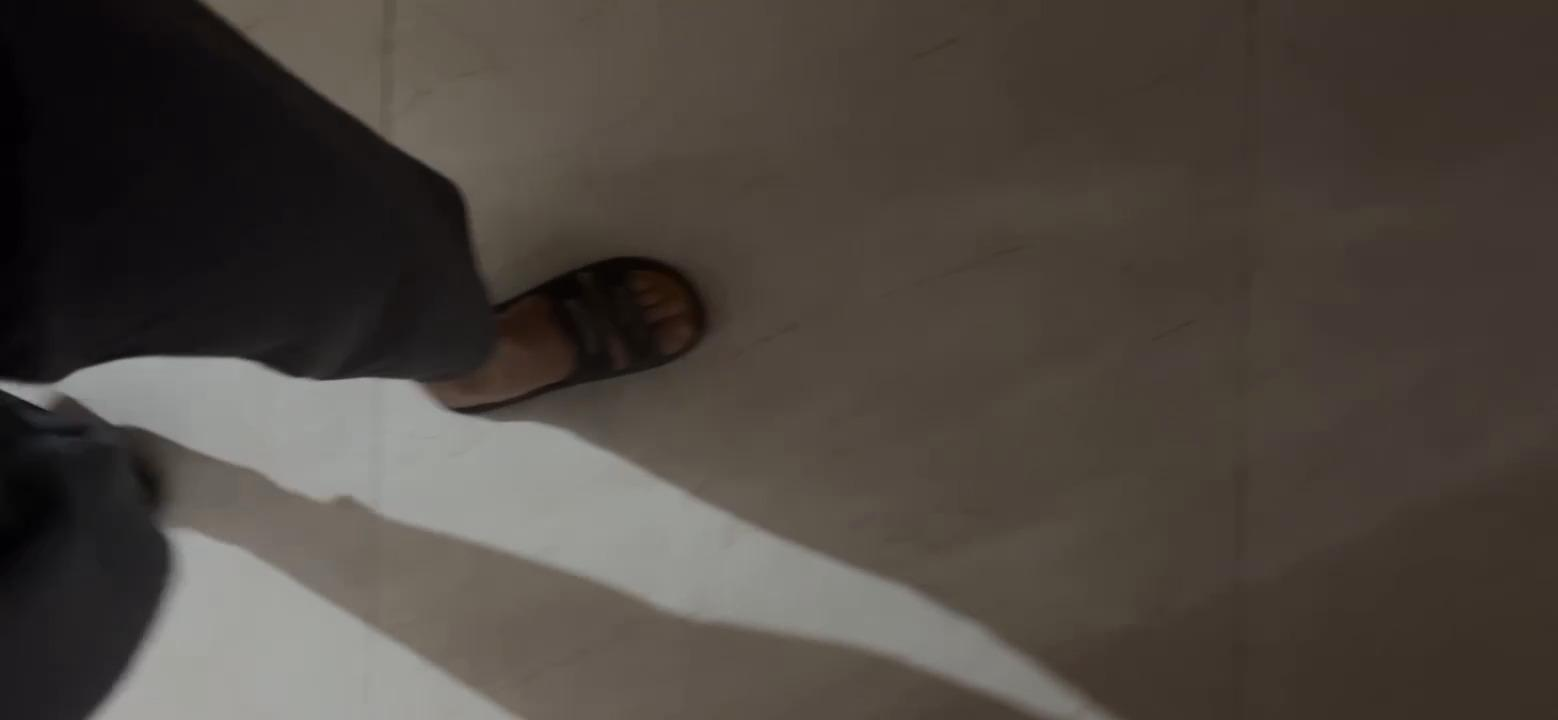no-boot: (431, 251, 713, 405)
